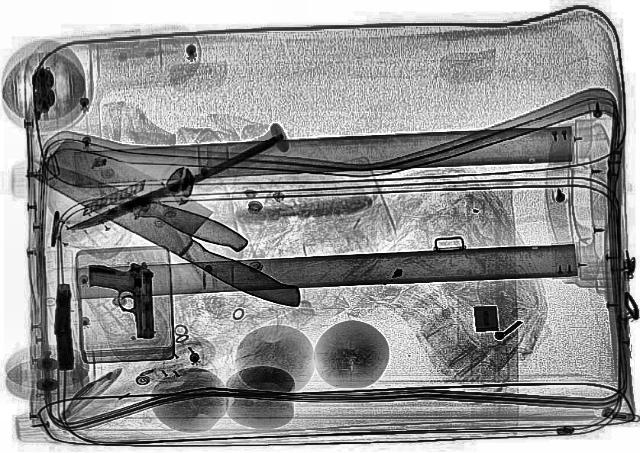Gun: (86, 260, 156, 340), (51, 282, 73, 370)
Knife: (14, 136, 343, 313), (22, 147, 252, 255), (60, 133, 290, 233)
